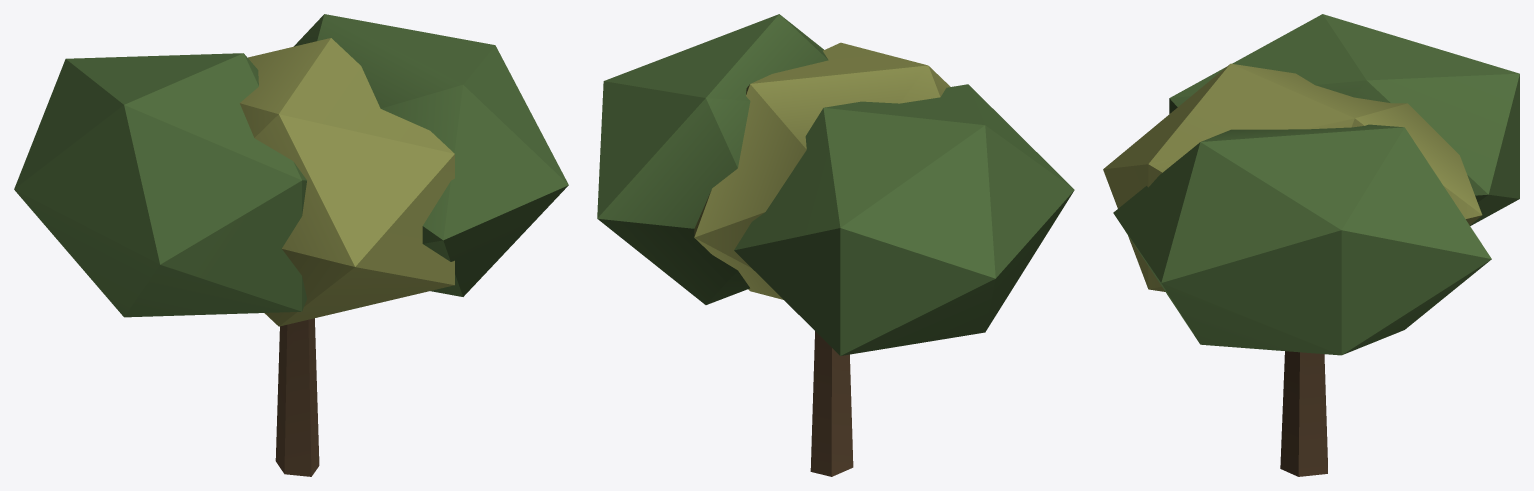
File: tree-olive-3.glb
3 views of the same model, side by side, from view 1: azimuth 30°, elevation 25°; view 2: azimuth 150°, elevation 25°; view 3: azimuth 270°, elevation 25° (orthographic). The views are drawn at different scales.
Parts seen in each view (by area): view 1: tree-olive-3; view 2: tree-olive-3; view 3: tree-olive-3.
Boxes of the visible parts, x1,y1,x2,y2 form: tree-olive-3: (14,14,568,476); tree-olive-3: (597,14,1074,476); tree-olive-3: (1103,14,1519,476).
Bounding box in the file's own units: 7 × 6 × 6.
